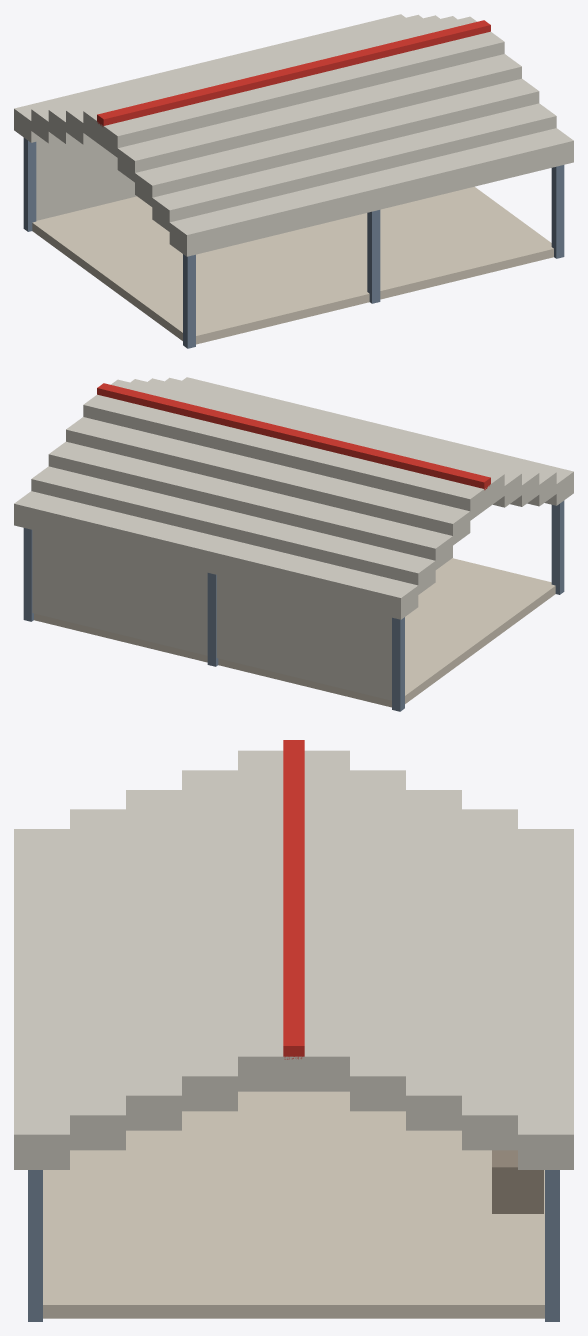
Rendered from paddockTent.glb.
3 views of the same model, one above another, from view 1: azimuth 30°, elevation 25°; view 2: azimuth 150°, elevation 25°; view 3: azimuth 270°, elevation 25° (orthographic). The views are drawn at different scales.
Visible parts, largest first — view 1: paddockTent_white, paddockTent_concrete, paddockTent_red, paddockTent_steel; view 2: paddockTent_white, paddockTent_concrete, paddockTent_red, paddockTent_steel; view 3: paddockTent_white, paddockTent_concrete, paddockTent_red, paddockTent_steel, paddockTent_concreteDark.
Boxes of the visible parts, bbox=[...] form: paddockTent_white: bbox=[14, 14, 573, 256]; paddockTent_concrete: bbox=[32, 186, 553, 344]; paddockTent_red: bbox=[97, 20, 490, 126]; paddockTent_steel: bbox=[23, 137, 564, 348]; paddockTent_white: bbox=[14, 377, 573, 700]; paddockTent_concrete: bbox=[34, 558, 555, 707]; paddockTent_red: bbox=[97, 383, 490, 490]; paddockTent_steel: bbox=[23, 500, 564, 711]; paddockTent_white: bbox=[14, 750, 573, 1169]; paddockTent_concrete: bbox=[43, 1091, 544, 1318]; paddockTent_red: bbox=[283, 740, 304, 1059]; paddockTent_steel: bbox=[28, 1170, 559, 1321]; paddockTent_concreteDark: bbox=[492, 1150, 543, 1213].
Size of the model in its own units: 16.8 by 7.18 by 13.
